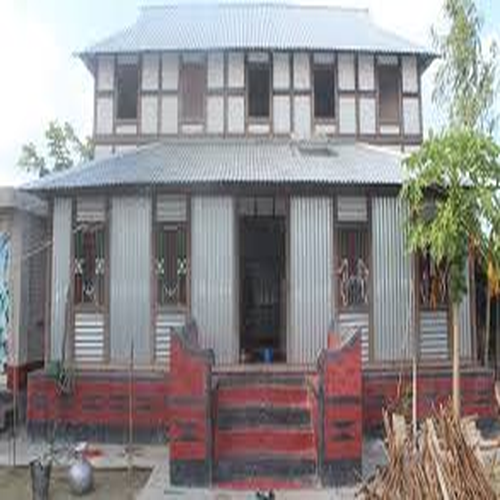Tin-shade House: (22, 4, 500, 389)
